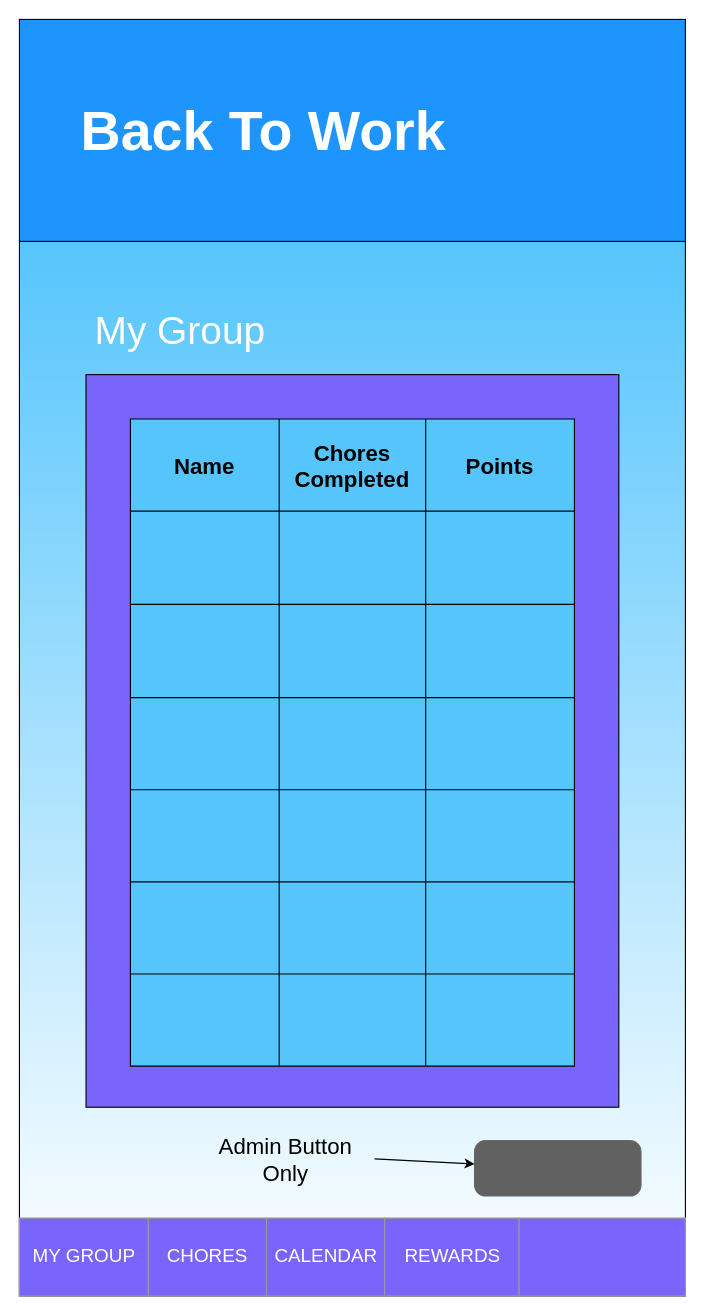
This 705x1315 diagram has some shape labels left out. Each missing label, with the centre of its shape:
MY ACCOUNT: point (601, 1256)
Setup/Manage Family: point (557, 1167)
